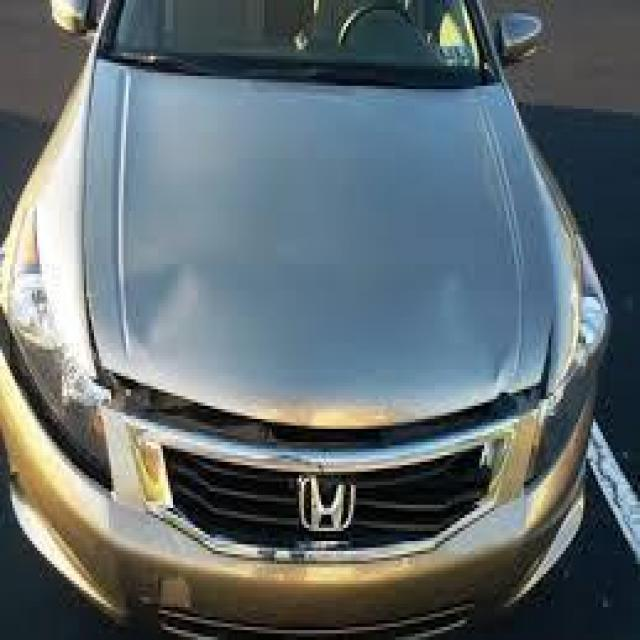damaged: (128, 258, 198, 356)
